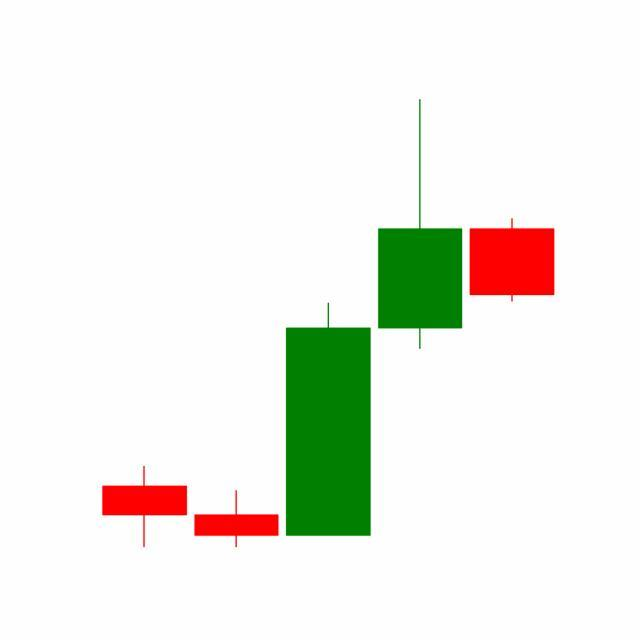Marubozu: (466, 218, 559, 304)
